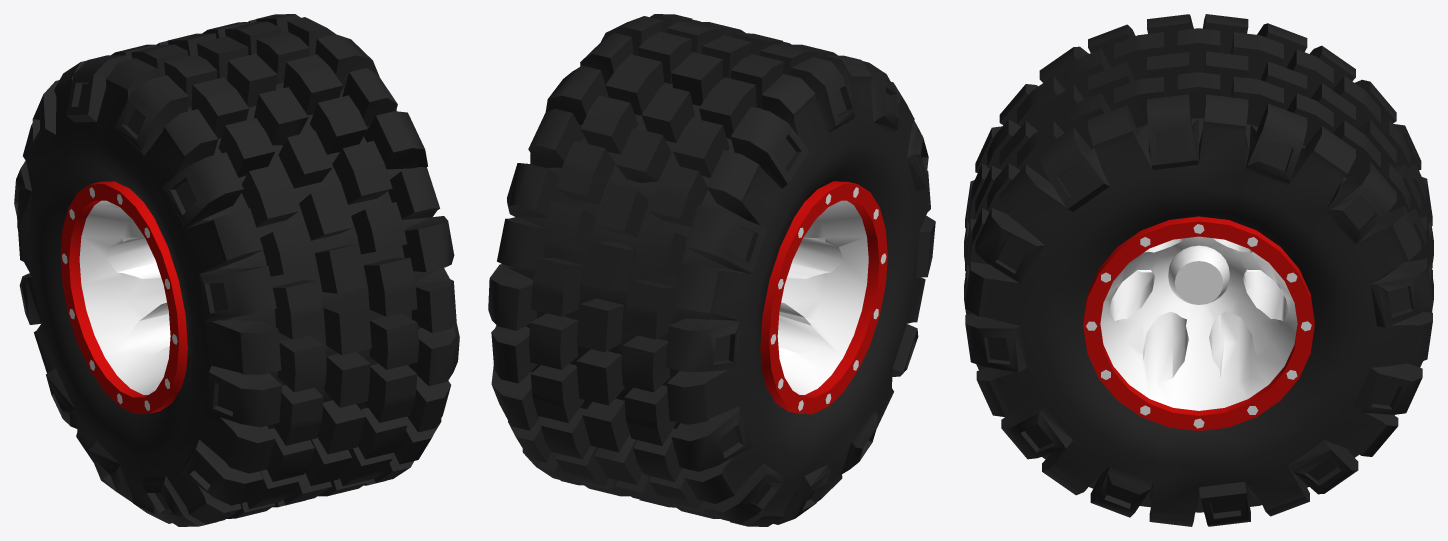
File: Buggy Wheel2.fbx
3 renders of one model, left to right at view 1: azimuth 30°, elevation 25°; view 2: azimuth 150°, elevation 25°; view 3: azimuth 270°, elevation 25°, orthographic. The views are drawn at different scales.
Parts seen in each view (by area): view 1: Rubber, Rim, Beadlock; view 2: Rubber, Rim, Beadlock; view 3: Rubber, Rim, Beadlock.
Part boxes in pixels (x1=…): Rubber: x1=14, y1=14, x2=459, y2=526; Rim: x1=62, y1=187, x2=177, y2=410; Beadlock: x1=60, y1=181, x2=187, y2=413; Rubber: x1=488, y1=14, x2=935, y2=526; Rim: x1=770, y1=187, x2=886, y2=411; Beadlock: x1=760, y1=181, x2=887, y2=414; Rubber: x1=964, y1=14, x2=1433, y2=526; Rim: x1=1086, y1=224, x2=1311, y2=428; Beadlock: x1=1083, y1=216, x2=1314, y2=430.
Bounding box in the file's own units: 59.32 × 100 × 100.
